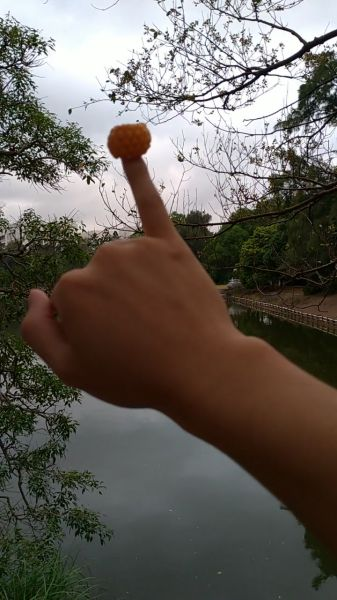eggs: (106, 124, 151, 157)
